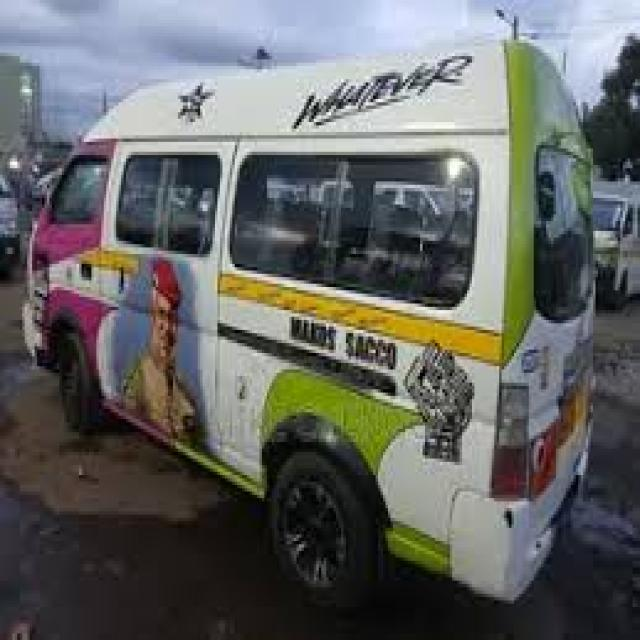matatu: (9, 10, 627, 639)
